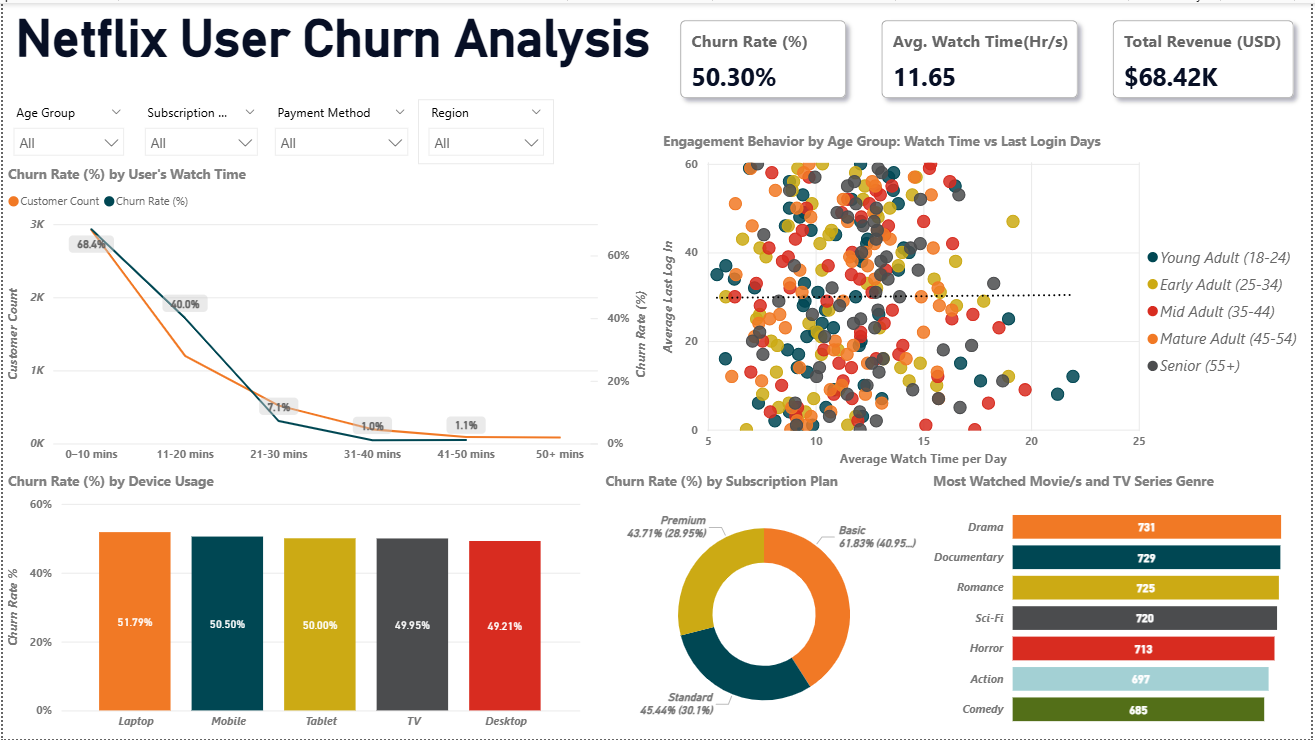

Layout of this report page (visuals, bound fields, positions):
{"tool":"powerbi","page":{"name":"Dashboard","canvas":[1280,720],"ordinal":1},"visuals":[{"type":"scatterChart","title":"Engagement Behavior by Age Group: Watch Time vs Last Login Days","fields":{"Y":["netflix_customer_churn.last_login_days"],"Series":["netflix_customer_churn.Age_Group"],"X":["netflix_customer_churn.watch_hours"]},"box":[640.8,126,639.5,332.6],"z":0},{"type":"lineChart","title":"Churn Rate (%) by User''s Watch Time","fields":{"Category":["netflix_customer_churn.WatchTimeGroups"],"Y":["CountNonNull(netflix_customer_churn.customer_id)"],"Y2":["All Measures.Churn Rate (%)"]},"box":[0,157.7,639.5,300.8],"z":1000},{"type":"slicer","fields":{"Values":["netflix_customer_churn.subscription_type"]},"box":[128.4,94.2,130.8,63.6],"z":2000},{"type":"barChart","title":"Most Watched Movie/s and TV Series Genre","fields":{"Category":["netflix_customer_churn.favorite_genre"],"Y":["CountNonNull(netflix_customer_churn.customer_id)"],"Series":["netflix_customer_churn.favorite_genre"]},"box":[904.9,458.6,375.4,261.7],"z":3000},{"type":"slicer","fields":{"Values":["netflix_customer_churn.payment_method"]},"box":[255.6,94.2,150.4,63.6],"z":4000},{"type":"slicer","fields":{"Values":["netflix_customer_churn.region"]},"box":[406,94.2,133.3,63.6],"z":5000},{"type":"slicer","fields":{"Values":["netflix_customer_churn.Age_Group"]},"box":[0,94.2,128.4,63.6],"z":6000},{"type":"columnChart","title":"Churn Rate (%) by Device Usage","fields":{"Category":["netflix_customer_churn.device"],"Y":["All Measures.Churn Rate (%)"],"Series":["netflix_customer_churn.device"]},"box":[0,458.6,569.8,261.7],"z":7000},{"type":"cardVisual","fields":{"Data":["All Measures.Churn Rate (%)"]},"box":[645.7,0,196.9,110.1],"z":8000},{"type":"cardVisual","fields":{"Data":["Sum(netflix_customer_churn.monthly_fee)"]},"box":[1068.8,0,211.6,110.1],"z":9000},{"type":"cardVisual","fields":{"Data":["Avg(netflix_customer_churn.watch_hours)"]},"box":[842.5,0,226.2,110.1],"z":10000},{"type":"textbox","box":[0,0,645.7,94.2],"z":11000},{"type":"donutChart","title":"Churn Rate (%) by Subscription Plan","fields":{"Category":["netflix_customer_churn.subscription_type"],"Y":["All Measures.Churn Rate (%)"]},"box":[584.5,458.6,320.4,261.7],"z":12000}]}

Visuals, with their boxes in screenshot pixels (x1, y1, x2, y2), scaled from the page's 1280x720 canvas onto the 1315x740 screenshot:
"Engagement Behavior by Age Group: Watch Time vs Last Login Days" scatterChart: x1=658, y1=130, x2=1314, y2=471
"Churn Rate (%) by User''s Watch Time" lineChart: x1=0, y1=162, x2=657, y2=471
slicer - netflix_customer_churn.subscription_type: x1=132, y1=97, x2=266, y2=162
"Most Watched Movie/s and TV Series Genre" barChart: x1=930, y1=471, x2=1314, y2=739
slicer - netflix_customer_churn.payment_method: x1=263, y1=97, x2=417, y2=162
slicer - netflix_customer_churn.region: x1=417, y1=97, x2=554, y2=162
slicer - netflix_customer_churn.Age_Group: x1=0, y1=97, x2=132, y2=162
"Churn Rate (%) by Device Usage" columnChart: x1=0, y1=471, x2=585, y2=739
cardVisual - All Measures.Churn Rate (%): x1=663, y1=0, x2=866, y2=113
cardVisual - Sum(netflix_customer_churn.monthly_fee): x1=1098, y1=0, x2=1314, y2=113
cardVisual - Avg(netflix_customer_churn.watch_hours): x1=866, y1=0, x2=1098, y2=113
textbox: x1=0, y1=0, x2=663, y2=97
"Churn Rate (%) by Subscription Plan" donutChart: x1=600, y1=471, x2=930, y2=739
